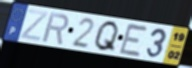2: (71, 17, 96, 50)
3: (144, 28, 168, 61)
E: (117, 22, 150, 59)
Q: (92, 19, 121, 54)
R: (41, 11, 71, 46)
Z: (19, 9, 50, 43)
